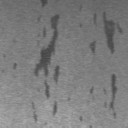red iron: (34, 14, 60, 98), (94, 12, 123, 54), (103, 74, 117, 118), (90, 41, 96, 53), (52, 101, 57, 114), (40, 0, 48, 7), (90, 85, 94, 93), (13, 62, 16, 70), (32, 101, 34, 110), (34, 114, 36, 122)
